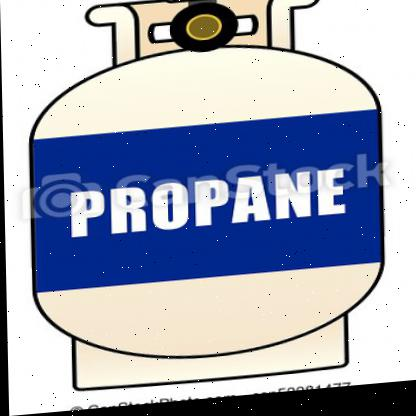gas-tank: (8, 0, 409, 406)
